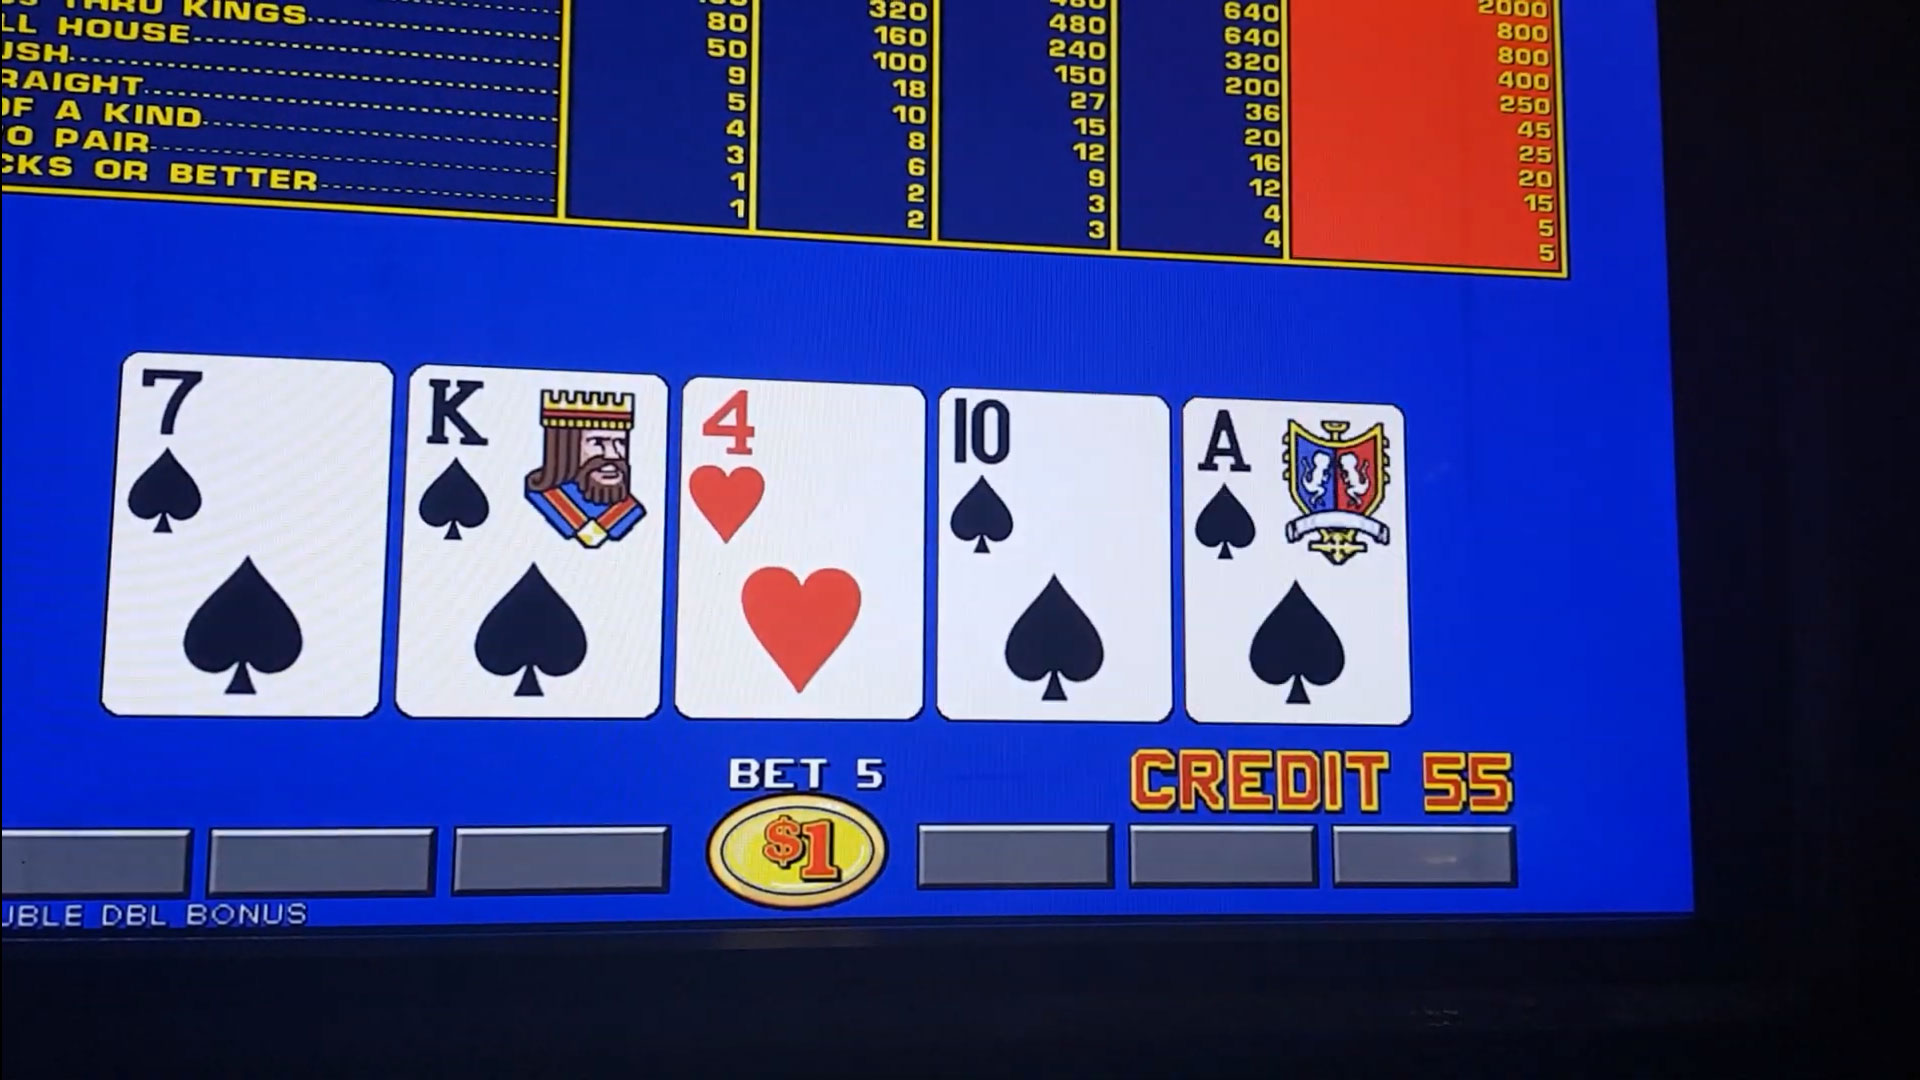H4: (684, 389, 920, 562)
S7: (127, 371, 380, 549)
SA: (1185, 407, 1400, 571)
SK: (414, 378, 659, 547)
ST: (944, 401, 1166, 574)
